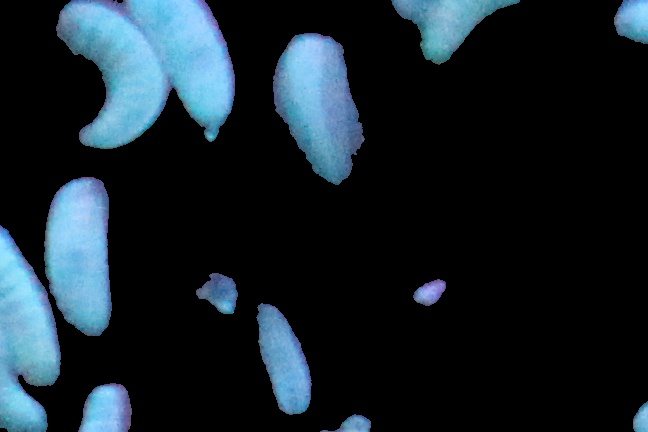larvae: (52, 1, 166, 151), (130, 1, 240, 148), (275, 41, 360, 189), (1, 204, 52, 383), (52, 183, 106, 337), (253, 299, 315, 415), (84, 379, 140, 432)
